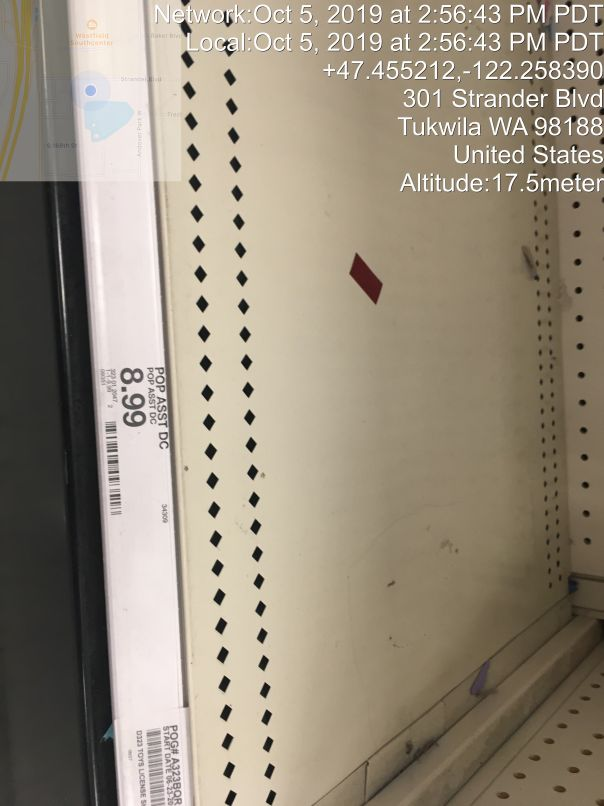Label: (86, 346, 176, 546)
Location: (390, 82, 604, 171)
Time: (143, 1, 604, 61)
Void: (198, 96, 582, 770)
